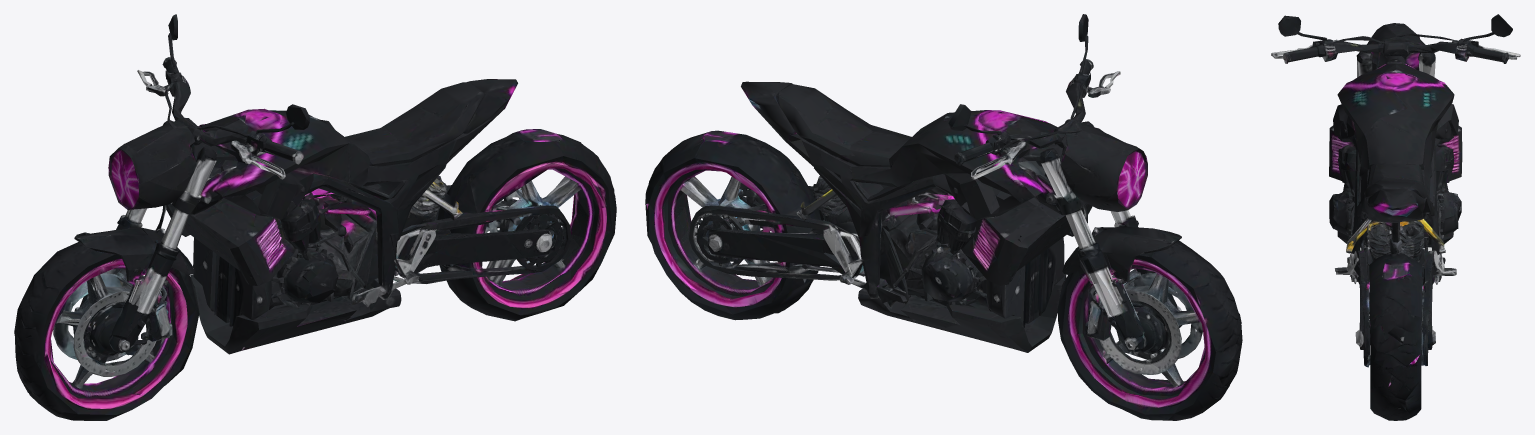
File: mx_cyber_bike.glb
The picture shows the model from 3 angles, left to right: view 1: azimuth 30°, elevation 25°; view 2: azimuth 150°, elevation 25°; view 3: azimuth 270°, elevation 25°; orthographic projection. The views are drawn at different scales.
Bounding box in the file's own units: 1.9 × 1 × 0.814.
Materials: 1 (1 with a texture image).
